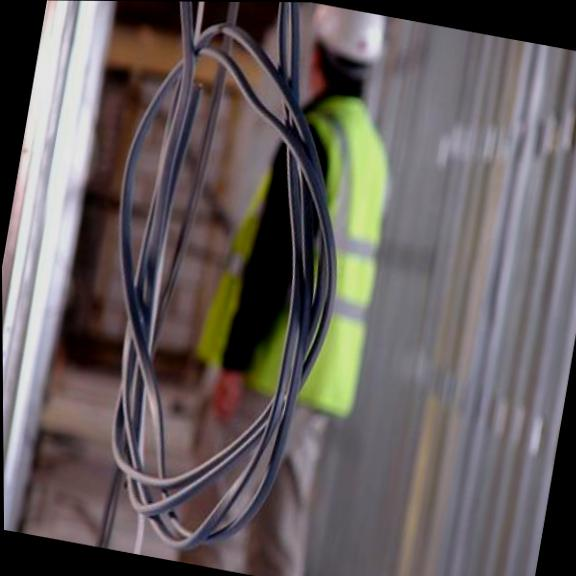safety_vest: (187, 71, 412, 423)
